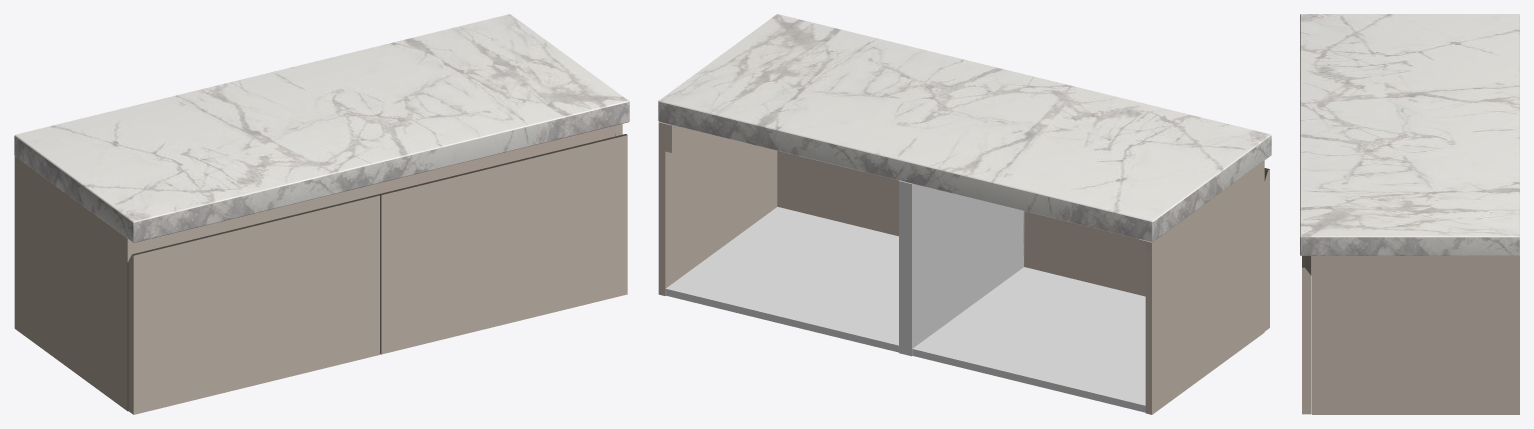
The picture shows the model from 3 angles, left to right: view 1: azimuth 30°, elevation 25°; view 2: azimuth 150°, elevation 25°; view 3: azimuth 270°, elevation 25°; orthographic projection. The views are drawn at different scales.
Parts seen in each view (by area): view 1: VX02; view 2: VX02; view 3: VX02.
Part boxes in pixels (bbox=[...]): VX02: bbox=[14, 14, 629, 414]; VX02: bbox=[658, 14, 1271, 414]; VX02: bbox=[1300, 14, 1519, 414].
Bounding box in the file's own units: 1.2 × 0.449 × 0.5.
4 materials, 1 textured.
